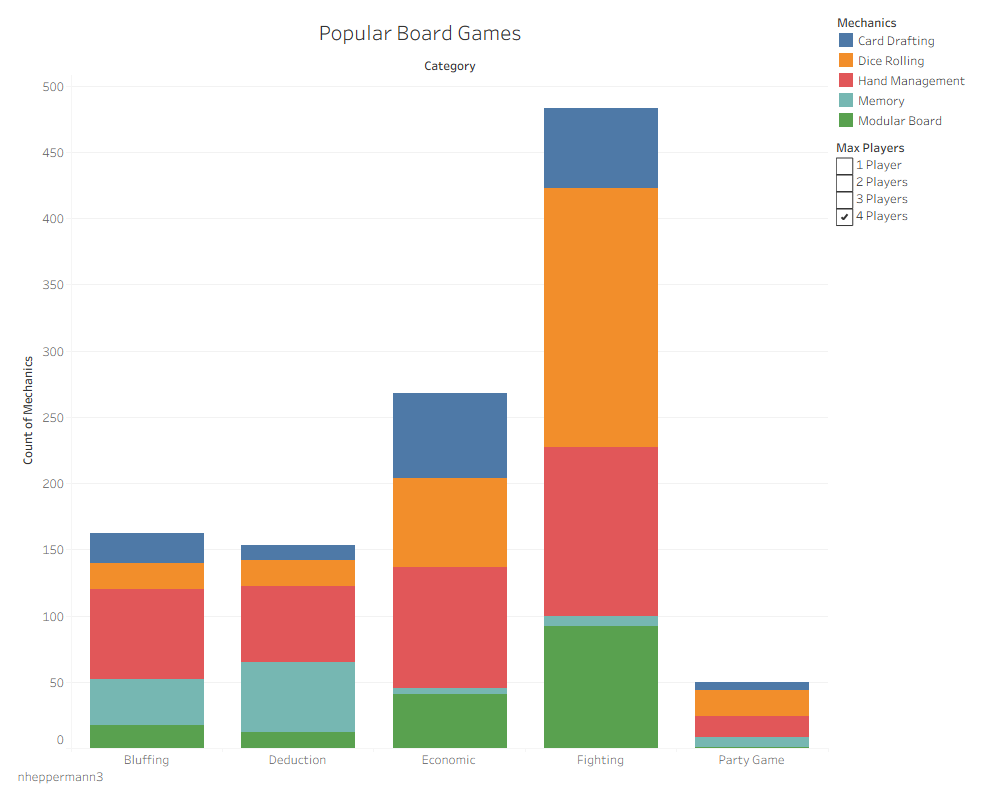

What the dashboard file says about the page in this screenshot:
{"tool":"tableau","page":{"name":"q3 dashboard","canvas":[1000,800],"ordinal":1},"visuals":[{"type":"worksheet","title":"q3","mark":"Bar","rows":["Mechanics"],"cols":["Category"],"box":[8,8,824,784]},{"type":"legend","title":"q3","param":"[federated.0saieyc14x5i7312fxadu1uu3zfc].[none:Mechanics:nk]","box":[832,8,160,126]},{"type":"filter","title":"q3","param":"[federated.0saieyc14x5i7312fxadu1uu3zfc].[none:Max.Players:nk]","box":[832,134,160,127]},{"type":"text","box":[15,755,108,42]}]}

Visuals, with their boxes in screenshot pixels (x1, y1, x2, y2), scaled from the page's 1000x800 canvas onto the 1000x800 screenshot:
"q3" worksheet (Bar marks): <region>8, 8, 832, 792</region>
"q3" legend: <region>832, 8, 992, 134</region>
"q3" filter: <region>832, 134, 992, 261</region>
text: <region>15, 755, 123, 797</region>
